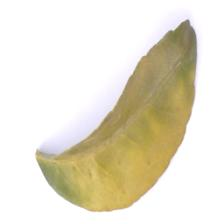greening: (61, 36, 206, 214)
